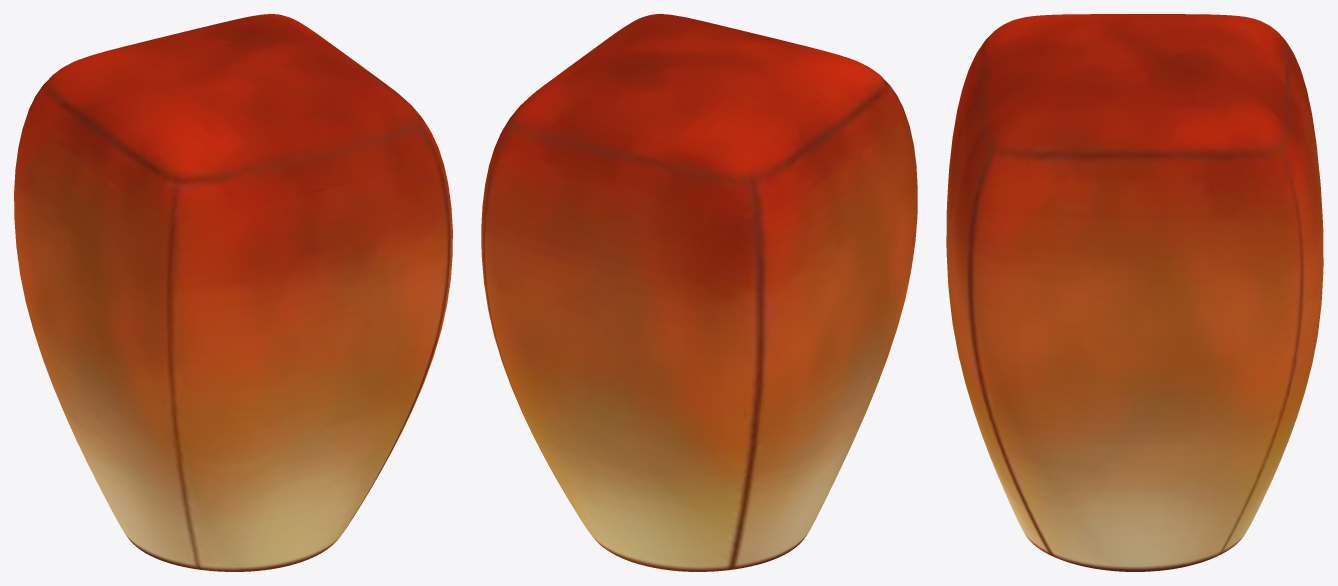
File: sky_lantern_opt.glb
3 renders of one model, left to right at view 1: azimuth 30°, elevation 25°; view 2: azimuth 150°, elevation 25°; view 3: azimuth 270°, elevation 25°, orthographic. The views are drawn at different scales.
Parts seen in each view (by area): view 1: 1__0; view 2: 1__0; view 3: 1__0.
Part boxes in pixels (x1,y1,x2,y2): 1__0: [14, 14, 452, 571]; 1__0: [481, 14, 917, 571]; 1__0: [946, 14, 1323, 571].
Size of the model in its own units: 2.58 by 3.63 by 2.58.
1 material, 1 textured.
